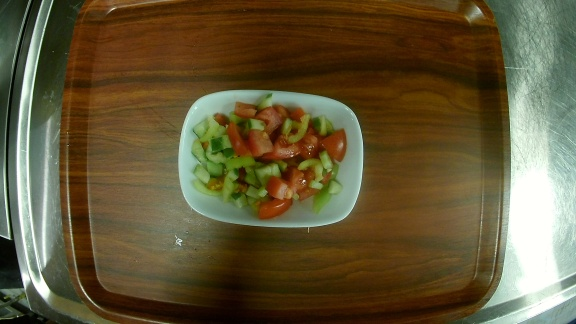cobansalata: (178, 88, 364, 228)
